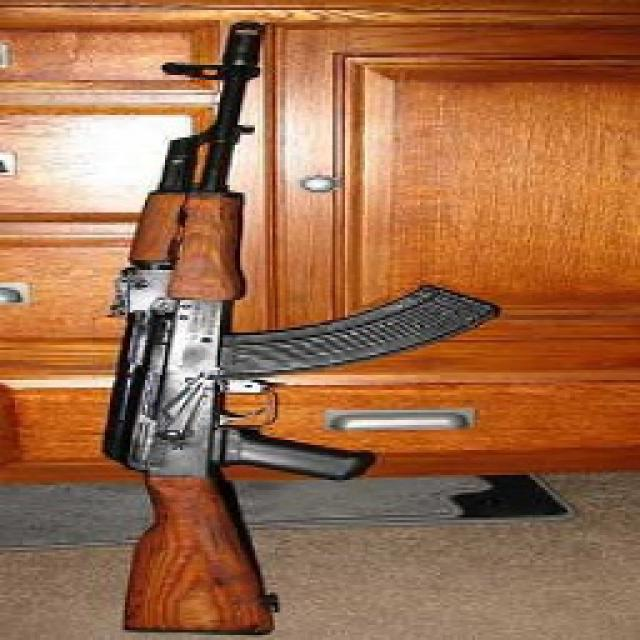long weapon: (67, 25, 495, 637)
